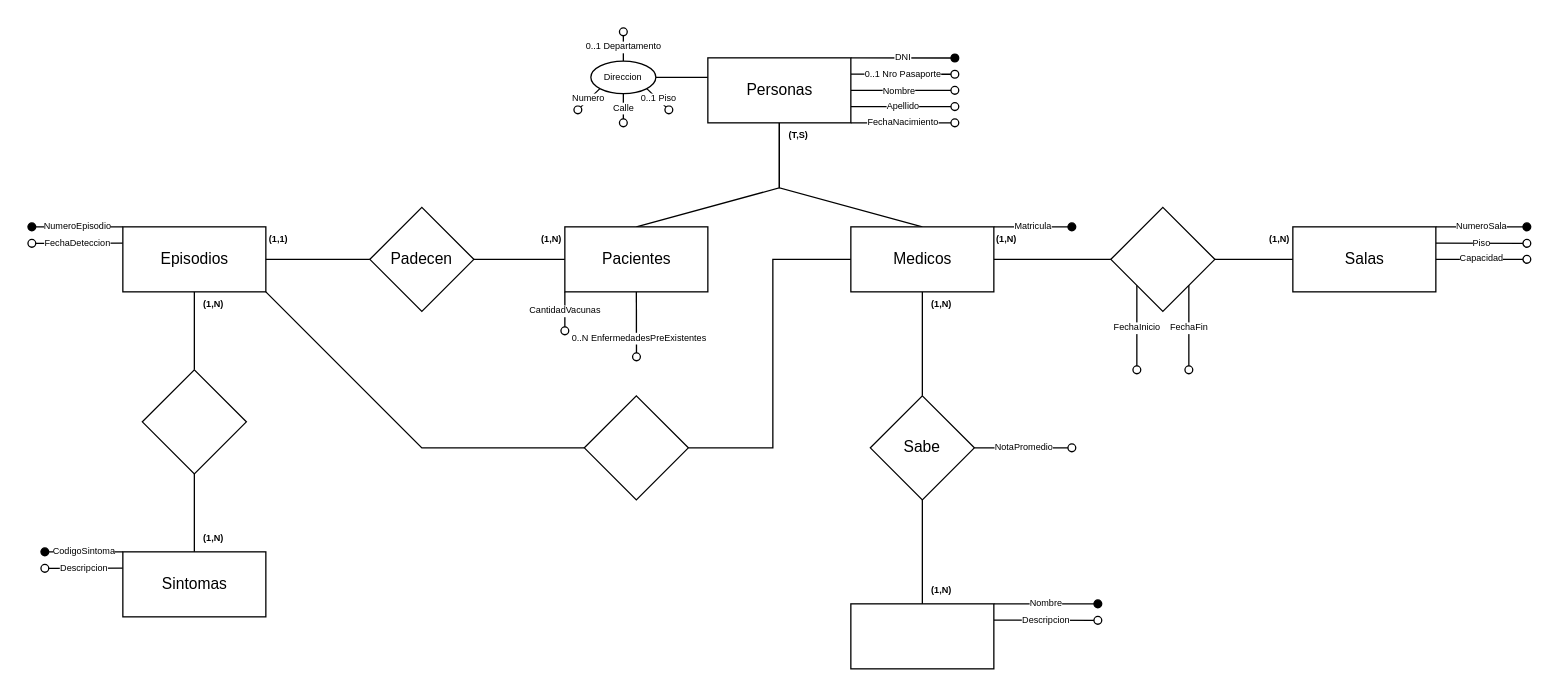
Image size: 1560x692. Some labels were removed from this diagram. Each missing label, with the box of its shape:
Atiende: (1110, 206, 1215, 311)
Atienden: (583, 395, 688, 500)
Especialidades: (850, 603, 994, 669)
Tienen: (141, 369, 246, 474)
